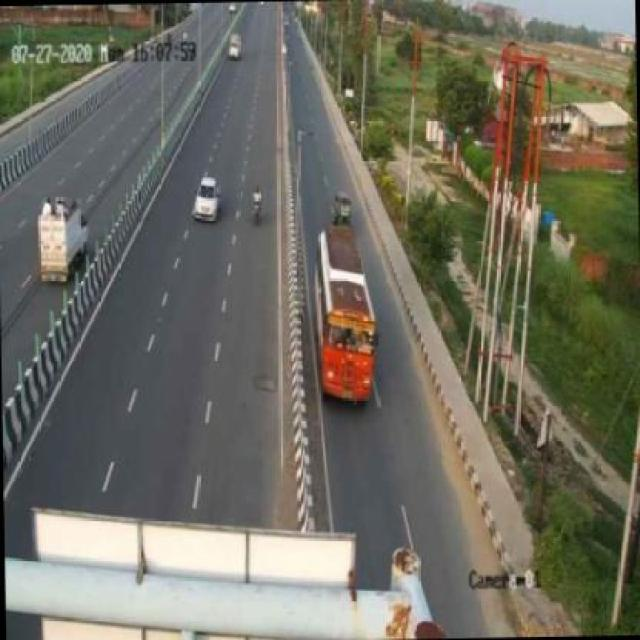car: (192, 175, 220, 223), (331, 188, 355, 228)
